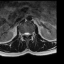CCS_normal: (26, 30, 27, 39)
LFS_normal: (29, 30, 31, 37)
LLS_normal: (27, 30, 29, 37)
RFS_normal: (22, 31, 24, 37)
RLS_normal: (24, 31, 26, 37)
